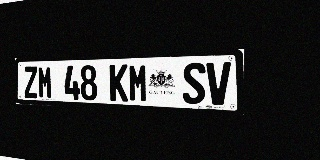4: (64, 65, 80, 100)
8: (80, 65, 97, 100)
K: (109, 64, 128, 102)
M: (128, 64, 148, 102), (38, 66, 53, 99)
S: (183, 62, 205, 104)
V: (206, 62, 231, 105)
Z: (24, 66, 38, 98)
